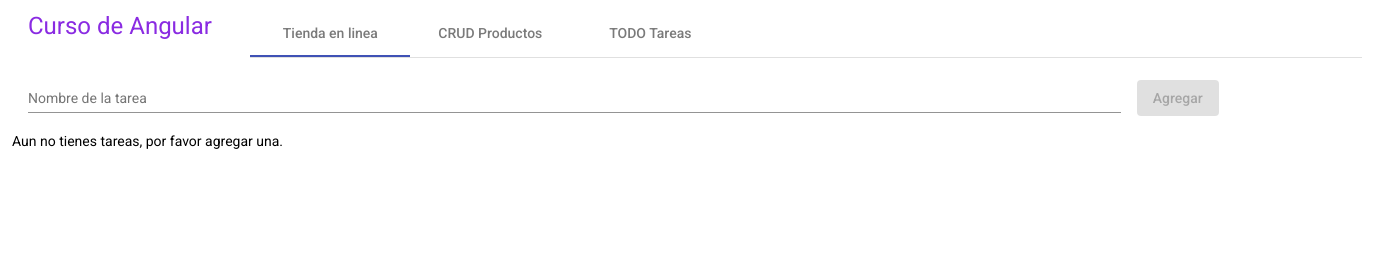
Test case: Lista de tareas › should complete an existing task
Type "Nueva tarea desde cypress" into the field with test id "taskInput" at (575, 99), box [28,91,1121,107]
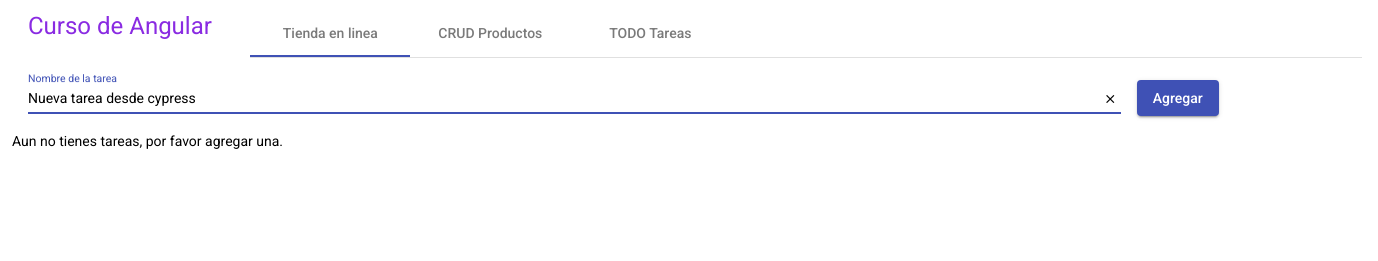
Click the button with test id "taskButton" at (1178, 98), box [1137,80,1219,116]
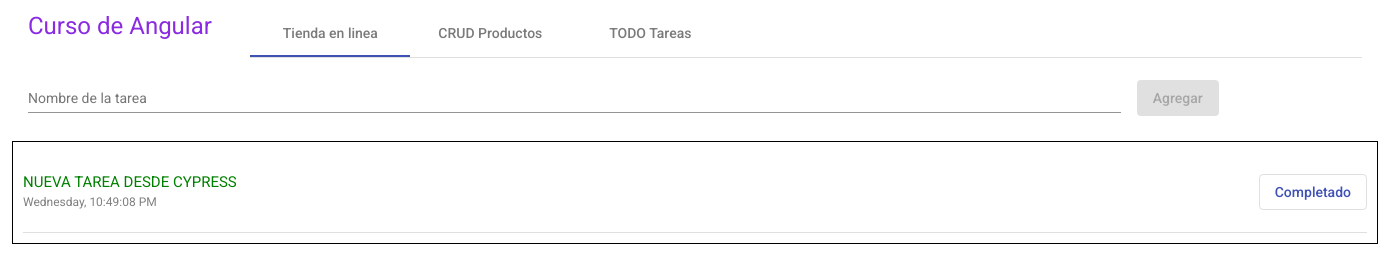
Check: the number of elements with test id "taskItem" is 1, box [23,173,1367,210]
Click the button with test id "taskCompleteButton" at (1313, 192), box [1259,174,1367,210]
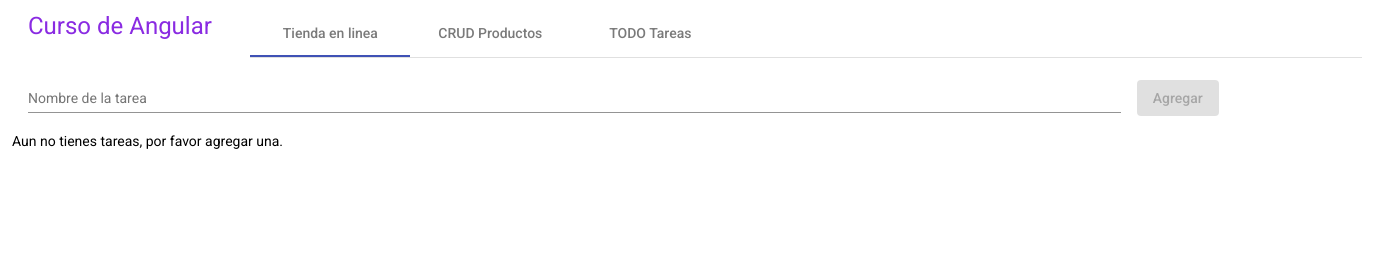
Check: no elements with test id "taskItem" are shown
